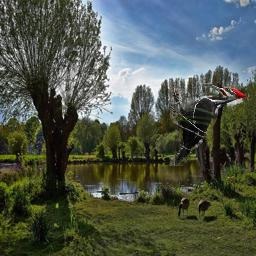Woodpecker: (171, 84, 248, 167)
